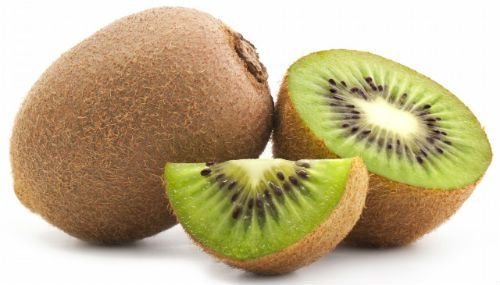kiwi: (10, 6, 274, 246), (274, 48, 492, 247), (164, 156, 368, 275)
